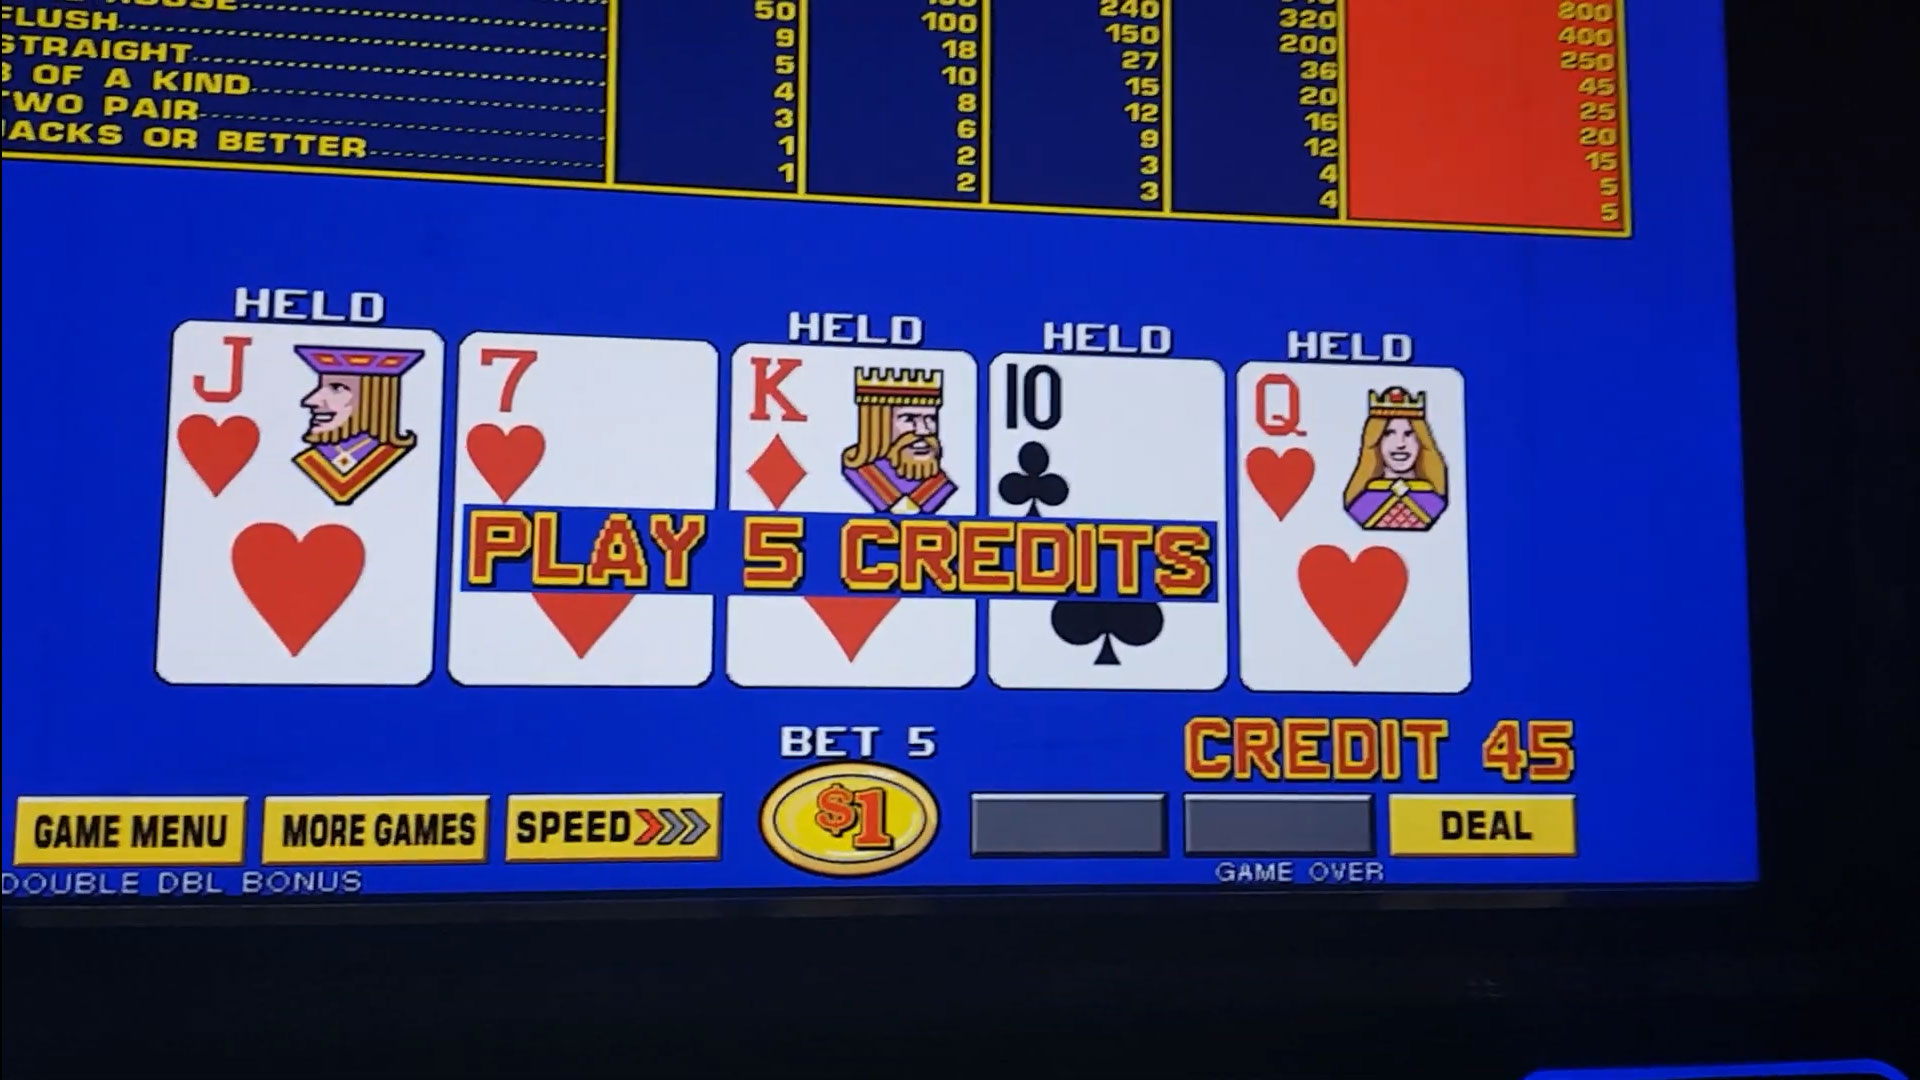CT: (994, 357, 1221, 518)
DK: (735, 357, 975, 505)
H7: (465, 344, 711, 502)
HJ: (179, 332, 436, 516)
HQ: (1244, 368, 1455, 527)
